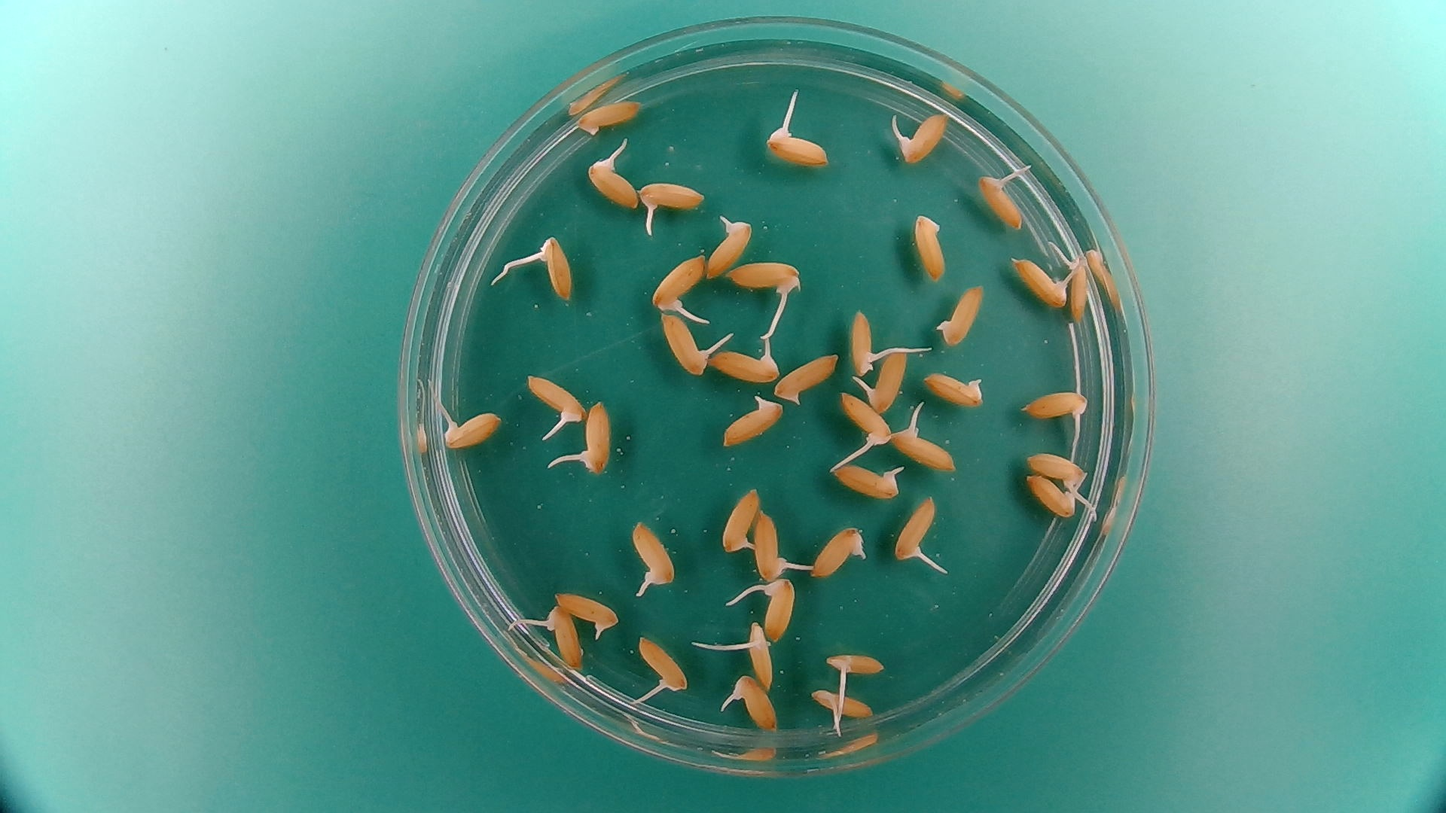no: (772, 349, 841, 406), (935, 281, 987, 347), (576, 96, 645, 138), (911, 211, 948, 285), (921, 369, 987, 410)
yes: (890, 410, 959, 474), (718, 391, 788, 449), (658, 312, 717, 379), (648, 249, 706, 313), (700, 219, 757, 282), (836, 389, 892, 452), (1010, 254, 1072, 310), (550, 590, 622, 638), (892, 497, 940, 568), (628, 516, 678, 583), (975, 168, 1027, 232), (580, 395, 621, 476), (526, 373, 590, 423), (828, 461, 906, 502), (584, 157, 642, 212), (810, 524, 868, 578), (637, 635, 691, 693), (719, 483, 761, 556), (1019, 385, 1090, 428), (897, 110, 951, 166), (867, 346, 910, 416), (709, 343, 783, 382), (1023, 472, 1084, 518), (1024, 449, 1090, 491), (435, 407, 499, 450), (734, 673, 780, 731), (726, 261, 802, 294), (548, 602, 584, 669), (541, 236, 577, 303), (761, 129, 828, 164), (757, 507, 787, 585), (848, 305, 880, 378), (764, 575, 797, 641), (641, 179, 706, 212), (822, 647, 889, 679), (808, 690, 873, 720), (1067, 252, 1092, 324), (749, 623, 774, 692)
